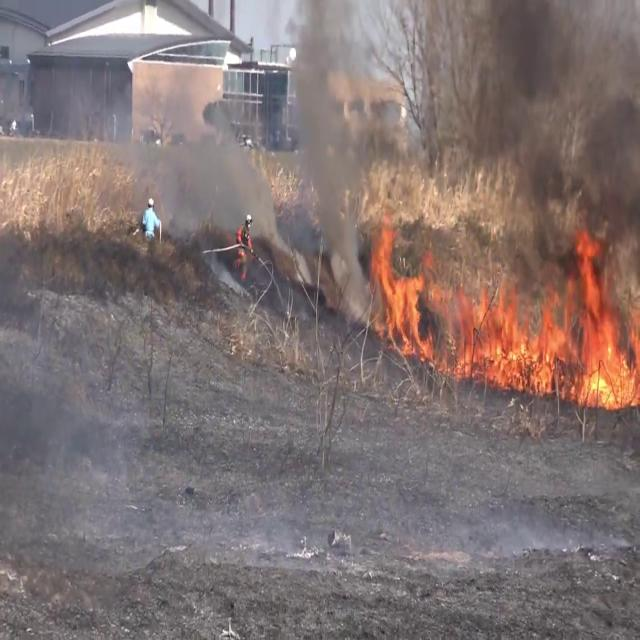Fire: (454, 242, 640, 412), (367, 212, 431, 363)
Smoke: (466, 0, 640, 206), (108, 82, 277, 242), (290, 17, 386, 264)
